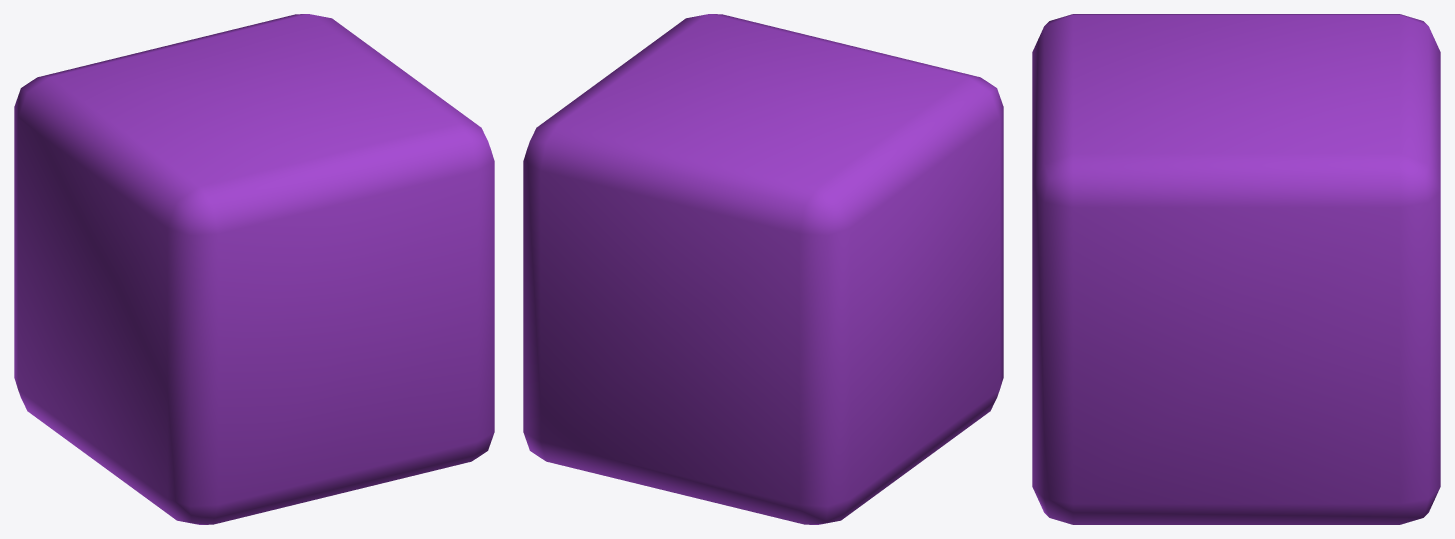
File: roundCube.obj
The picture shows the model from 3 angles, left to right: view 1: azimuth 30°, elevation 25°; view 2: azimuth 150°, elevation 25°; view 3: azimuth 270°, elevation 25°; orthographic projection. The views are drawn at different scales.
Parts seen in each view (by area): view 1: Cube.001; view 2: Cube.001; view 3: Cube.001.
Boxes of the visible parts, x1,y1,x2,y2 form: Cube.001: (14,14,494,524); Cube.001: (523,14,1003,524); Cube.001: (1032,14,1440,524).
Bounding box in the file's own units: 0.15 × 0.15 × 0.15.
